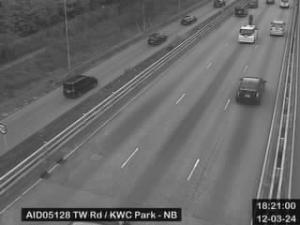bus: (62, 74, 98, 98)
motorbike: (249, 15, 253, 25)
vehicle: (61, 74, 98, 98), (236, 76, 266, 104), (238, 25, 258, 43), (147, 31, 167, 46), (270, 20, 286, 36), (234, 5, 248, 18), (181, 15, 197, 25), (212, 1, 226, 8), (278, 0, 290, 8), (248, 0, 258, 8), (266, 0, 274, 4)
